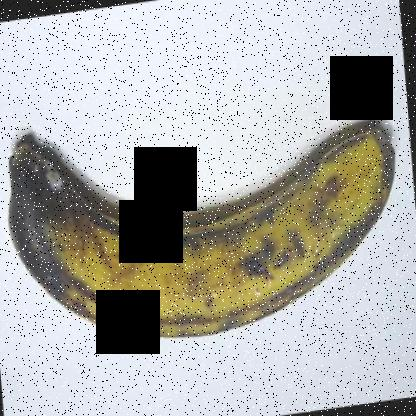overripe: (0, 78, 415, 367)
rotten: (0, 135, 111, 298)
